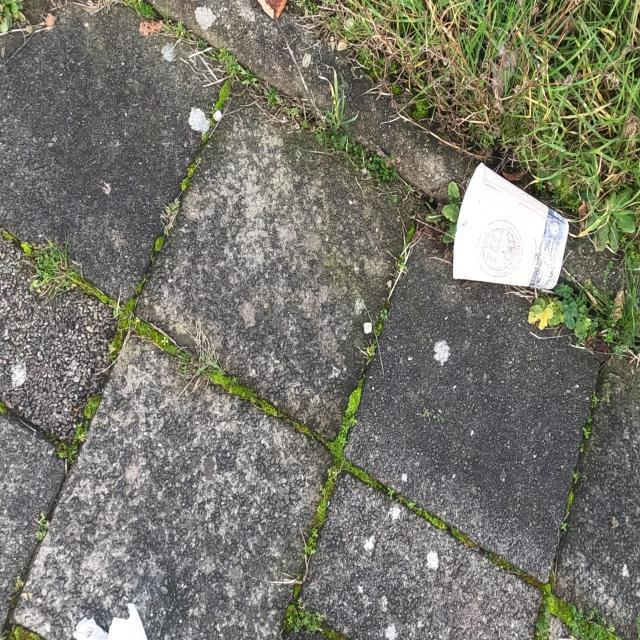Cup: (433, 150, 579, 302)
